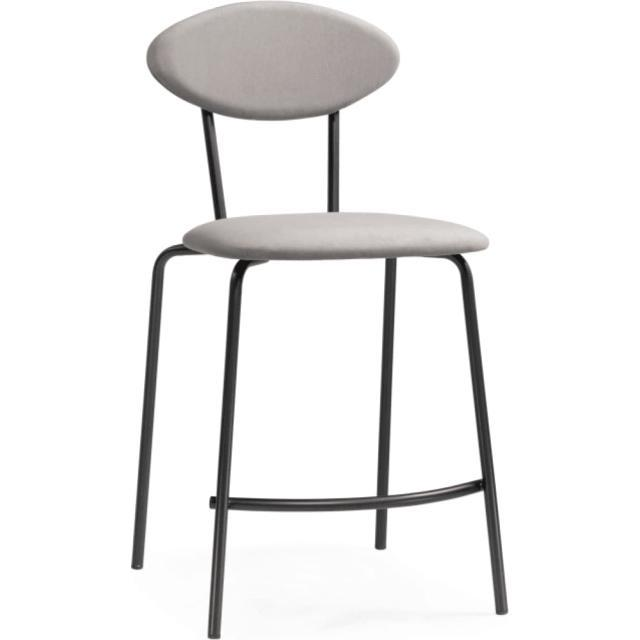chair: (124, 0, 516, 640), (143, 2, 490, 260)
